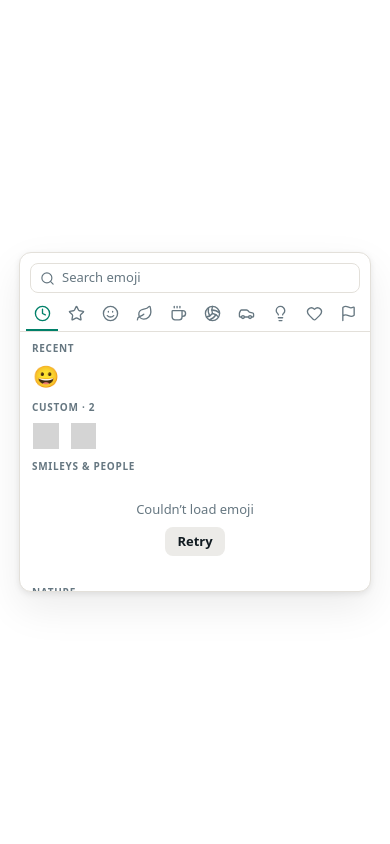
Test: EmojiPicker › shows a skeleton while loading, then "Couldn’t load emoji" with Retry; Recent and Custom work without it
Expected: the element named "Loading emoji" is shown, [136,500,254,556]
Expected: the text "Couldn’t load emoji" is shown, [136,501,254,519]
Click the button "Retry".
click(195, 542)  # box [165,527,225,556]
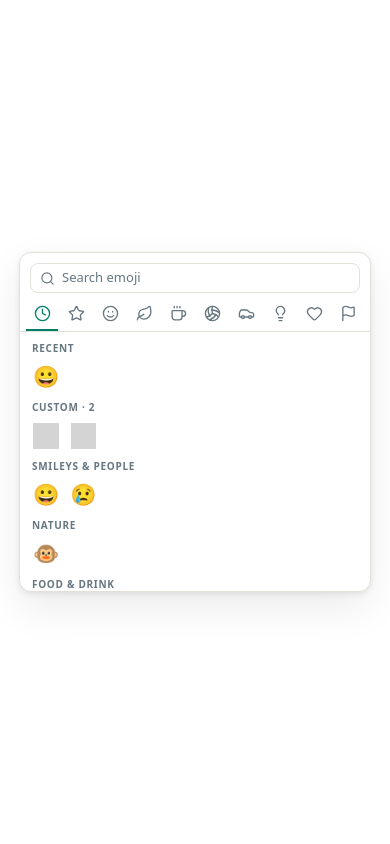
Expected: the button named "grinning face" is shown, [28,477,64,513]
